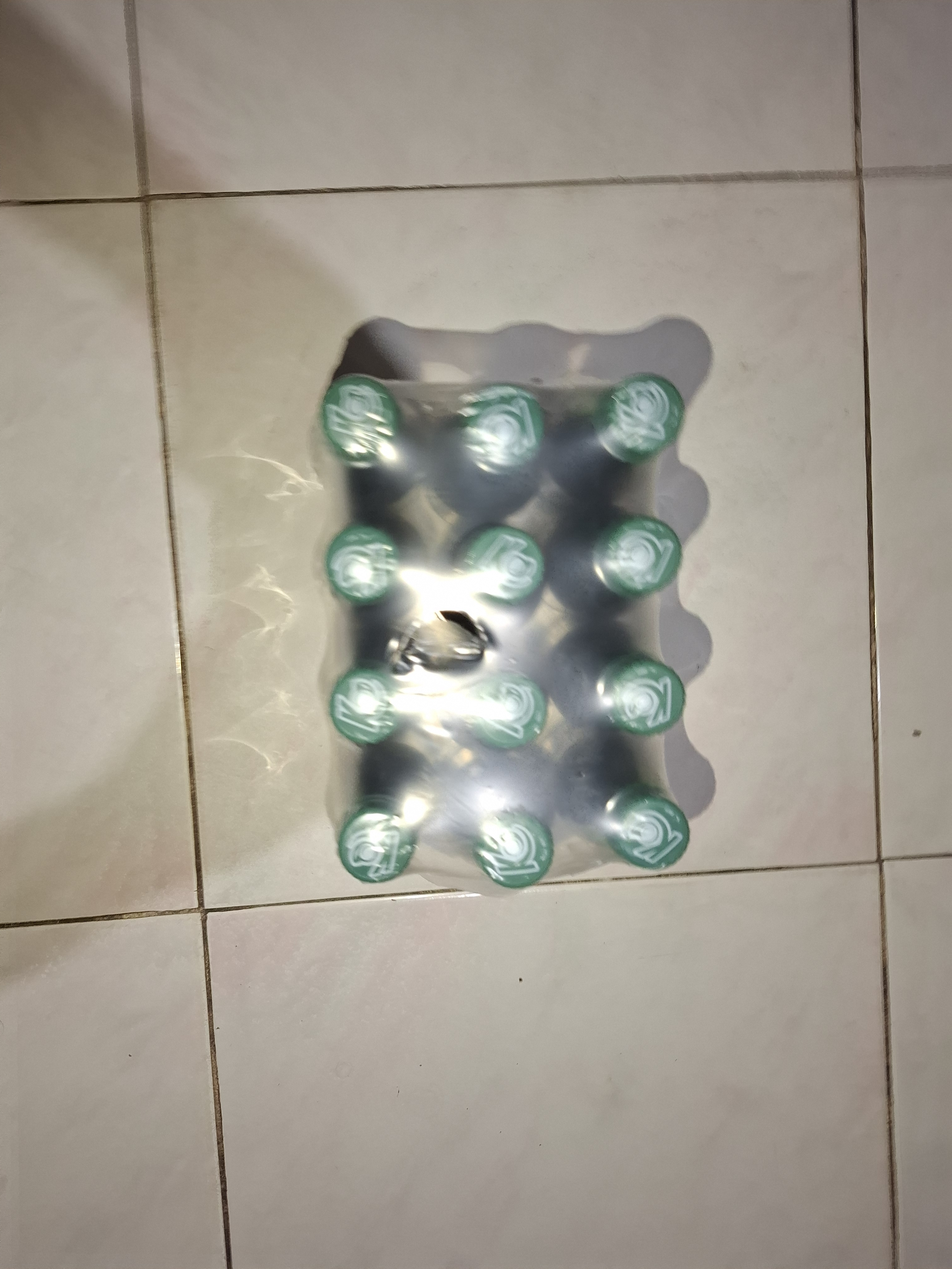Tampa Refrigerante Kuat: (454, 378, 548, 479), (317, 372, 403, 470), (597, 364, 680, 465), (462, 519, 551, 611), (596, 509, 681, 603), (597, 650, 683, 739), (600, 784, 688, 869), (473, 802, 557, 891), (468, 666, 551, 753), (322, 523, 403, 608), (334, 802, 415, 886), (328, 667, 403, 750)
